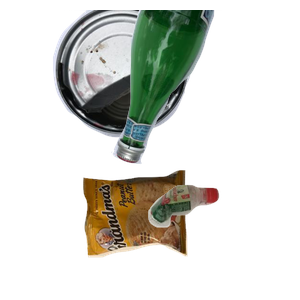glass: (109, 10, 300, 167)
metal: (50, 10, 262, 140)
plastic: (146, 182, 300, 300)
trash: (81, 168, 261, 300)
